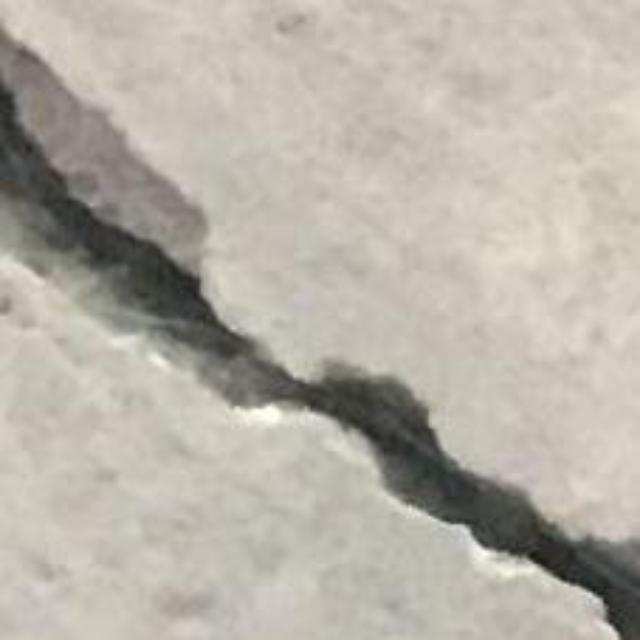crack: (0, 77, 639, 639)
